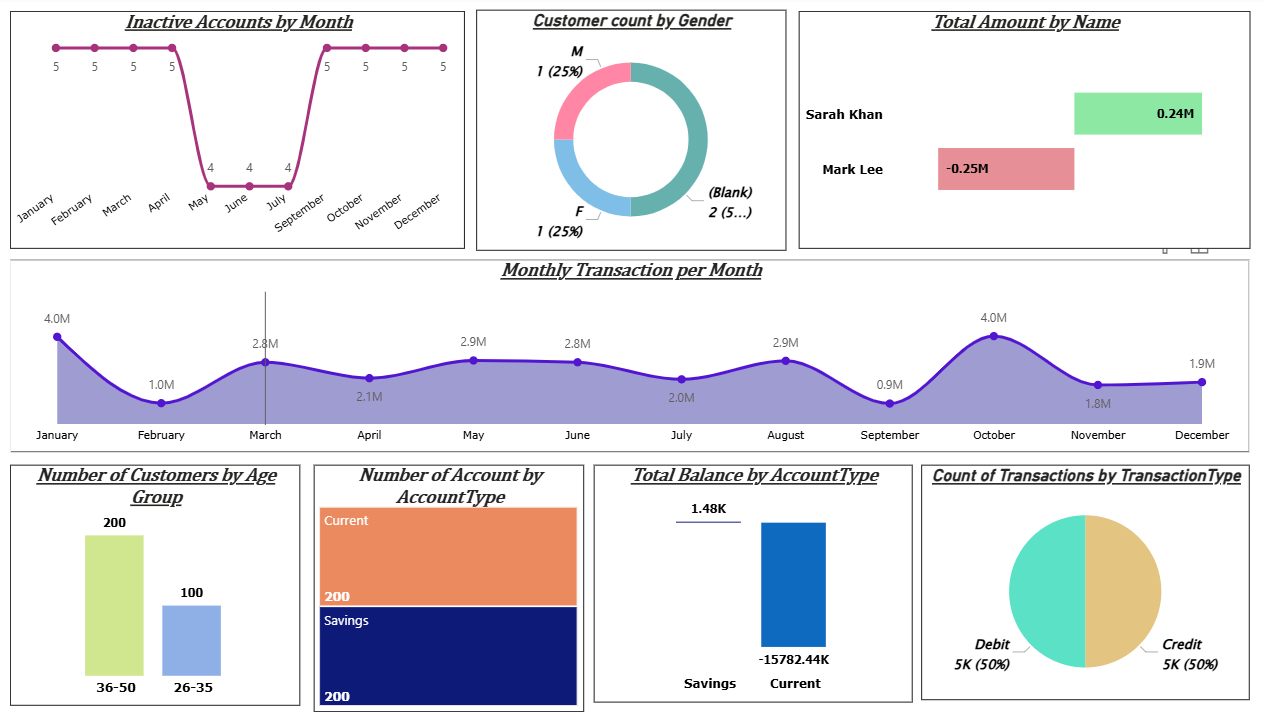

The dashboard page shown, as its layout file describes it:
{"tool":"powerbi","page":{"name":"Banking Dashboard","canvas":[1280,720],"ordinal":0},"visuals":[{"type":"pieChart","fields":{"Category":["power_bi combinedbankingdataset.TransactionType"],"Y":["Measures Table.Count of Transactions"]},"box":[931.9,471.6,330.8,236.4],"z":0},{"type":"areaChart","title":"Monthly Transaction per Month","fields":{"Category":["power_bi combinedbankingdataset.TransactionDate.Variation.Date Hierarchy.Month"],"Y":["Measures Table.Monthly Transaction Amount"]},"box":[15.1,265.4,1247.6,193.7],"z":1000},{"type":"barChart","title":"Total Amount by Name","fields":{"Y":["power_bi combinedbankingdataset.Amount"],"Category":["power_bi combinedbankingdataset.Name"]},"box":[808.6,15.1,454,238.9],"z":2000},{"type":"clusteredColumnChart","fields":{"Category":["power_bi combinedbankingdataset.AccountType"],"Y":["Measures Table.Total Balance"]},"box":[602.4,471.6,320.7,238.9],"z":3000},{"type":"lineChart","fields":{"Y":["Measures Table.Inactive Accounts"],"Category":["power_bi combinedbankingdataset.TransactionDate.Variation.Date Hierarchy.Year","power_bi combinedbankingdataset.TransactionDate.Variation.Date Hierarchy.Month"]},"box":[15.1,15.1,457.8,238.9],"z":4000},{"type":"treemap","title":"Number of Account by AccountType","fields":{"Group":["power_bi combinedbankingdataset.AccountType"],"Values":["Measures Table.Account Count by type"]},"box":[320.7,471.6,271.6,249],"z":5000},{"type":"donutChart","title":"Customer count by Gender","fields":{"Category":["power_bi combinedbankingdataset.Gender"],"Y":["Measures Table.Customer count by Gender"]},"box":[484.2,13.8,311.9,242.7],"z":6000},{"type":"columnChart","title":"Number of Customers by Age Group","fields":{"Y":["power_bi combinedbankingdataset.CustomerID"],"Category":["power_bi combinedbankingdataset.Age Group"]},"box":[15.1,471.6,291.8,242.7],"z":7000}]}

Visuals, with their boxes in screenshot pixels (x1, y1, x2, y2), scaled from the page's 1280x720 canvas onto the 1263x712 screenshot:
pieChart - power_bi combinedbankingdataset.TransactionType x Measures Table.Count of Transactions: bbox=(920, 466, 1246, 700)
"Monthly Transaction per Month" areaChart: bbox=(15, 262, 1246, 454)
"Total Amount by Name" barChart: bbox=(798, 15, 1246, 251)
clusteredColumnChart - power_bi combinedbankingdataset.AccountType x Measures Table.Total Balance: bbox=(594, 466, 911, 703)
lineChart - Measures Table.Inactive Accounts x power_bi combinedbankingdataset.TransactionDate.Variation.Date Hierarchy.Year: bbox=(15, 15, 467, 251)
"Number of Account by AccountType" treemap: bbox=(316, 466, 584, 711)
"Customer count by Gender" donutChart: bbox=(478, 14, 786, 254)
"Number of Customers by Age Group" columnChart: bbox=(15, 466, 303, 706)
